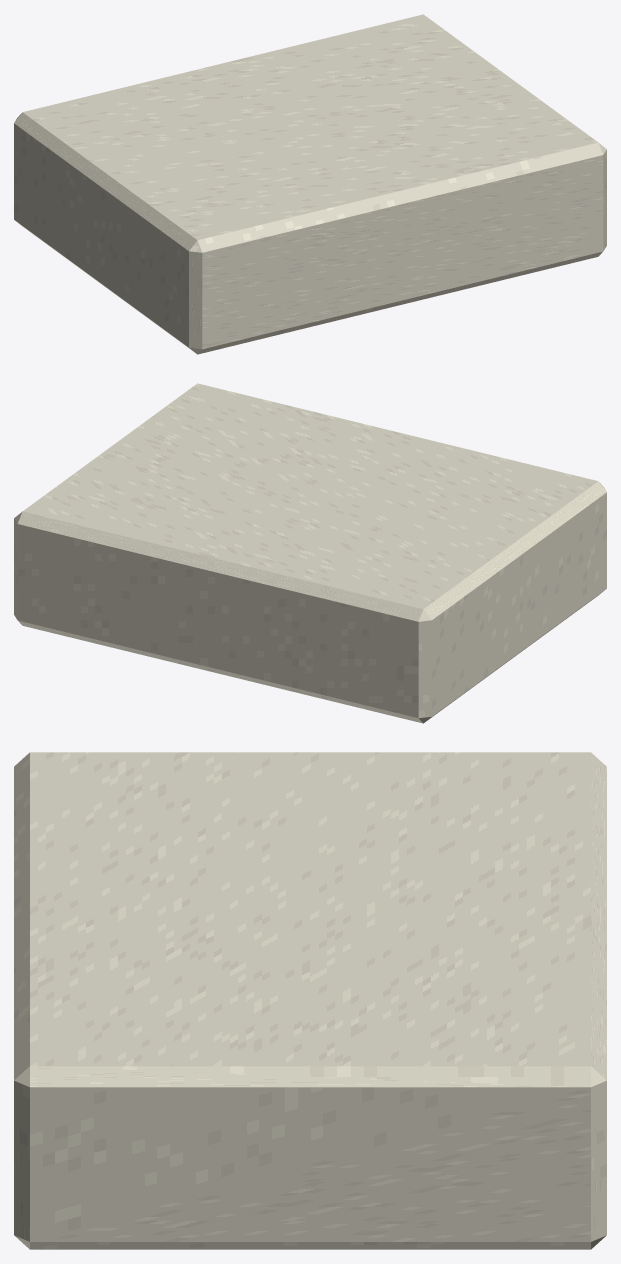
Rendered from wax_paraffin.glb.
3 views of the same model, one above another, from view 1: azimuth 30°, elevation 25°; view 2: azimuth 150°, elevation 25°; view 3: azimuth 270°, elevation 25° (orthographic). The views are drawn at different scales.
Visible parts, largest first — view 1: block_stock material; view 2: block_stock material; view 3: block_stock material.
Part boxes in pixels (bbox=[...]): block_stock material: bbox=[14, 14, 606, 354]; block_stock material: bbox=[14, 383, 606, 723]; block_stock material: bbox=[14, 752, 606, 1249].
Bounding box in the file's own units: 0.1184 × 0.031 × 0.0907.
1 material, 1 textured.
